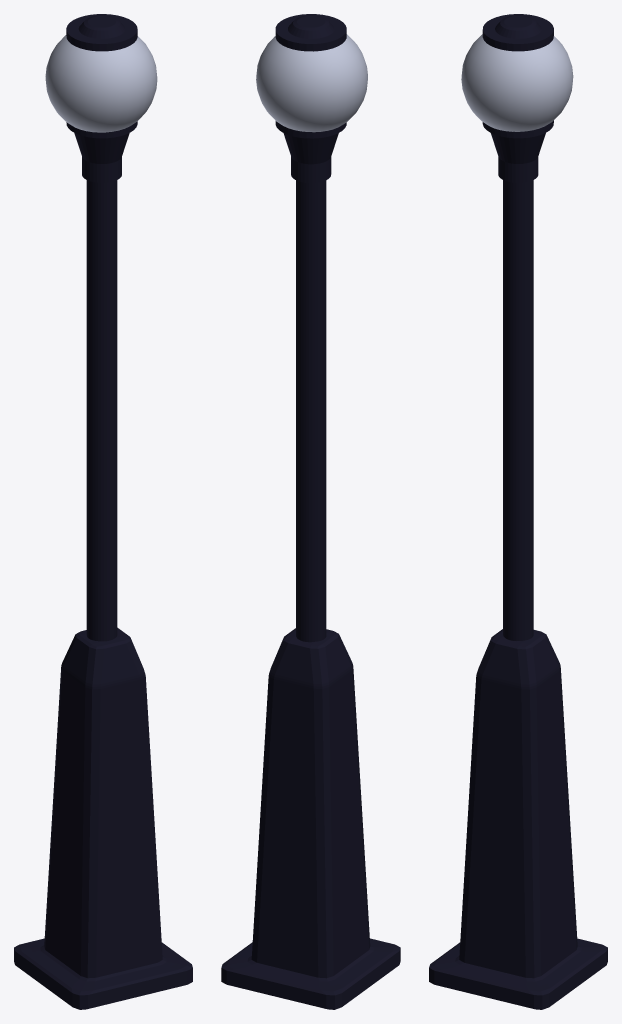
The model's file is street_light_1_v1.glb.
3 views of the same model, side by side, from view 1: azimuth 30°, elevation 25°; view 2: azimuth 150°, elevation 25°; view 3: azimuth 330°, elevation 25° (orthographic).
Parts seen in each view (by area): view 1: Cube091, Cube091_1; view 2: Cube091, Cube091_1; view 3: Cube091, Cube091_1.
Boxes of the visible parts, x1,y1,x2,y2 form: Cube091: (14,14,192,1009); Cube091_1: (45,35,157,132); Cube091: (221,14,400,1009); Cube091_1: (256,34,367,132); Cube091: (429,14,607,1009); Cube091_1: (461,34,573,131).
Size of the model in its own units: 0.516 by 3.94 by 0.516.
